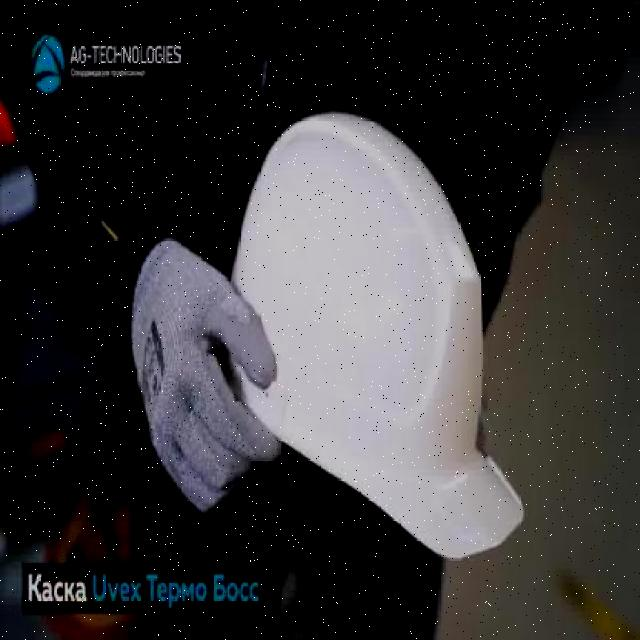Gloves: (131, 235, 284, 514)
Helmet: (212, 106, 525, 563)
